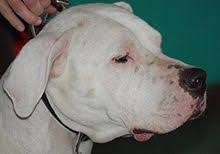dog: (1, 1, 209, 151)
